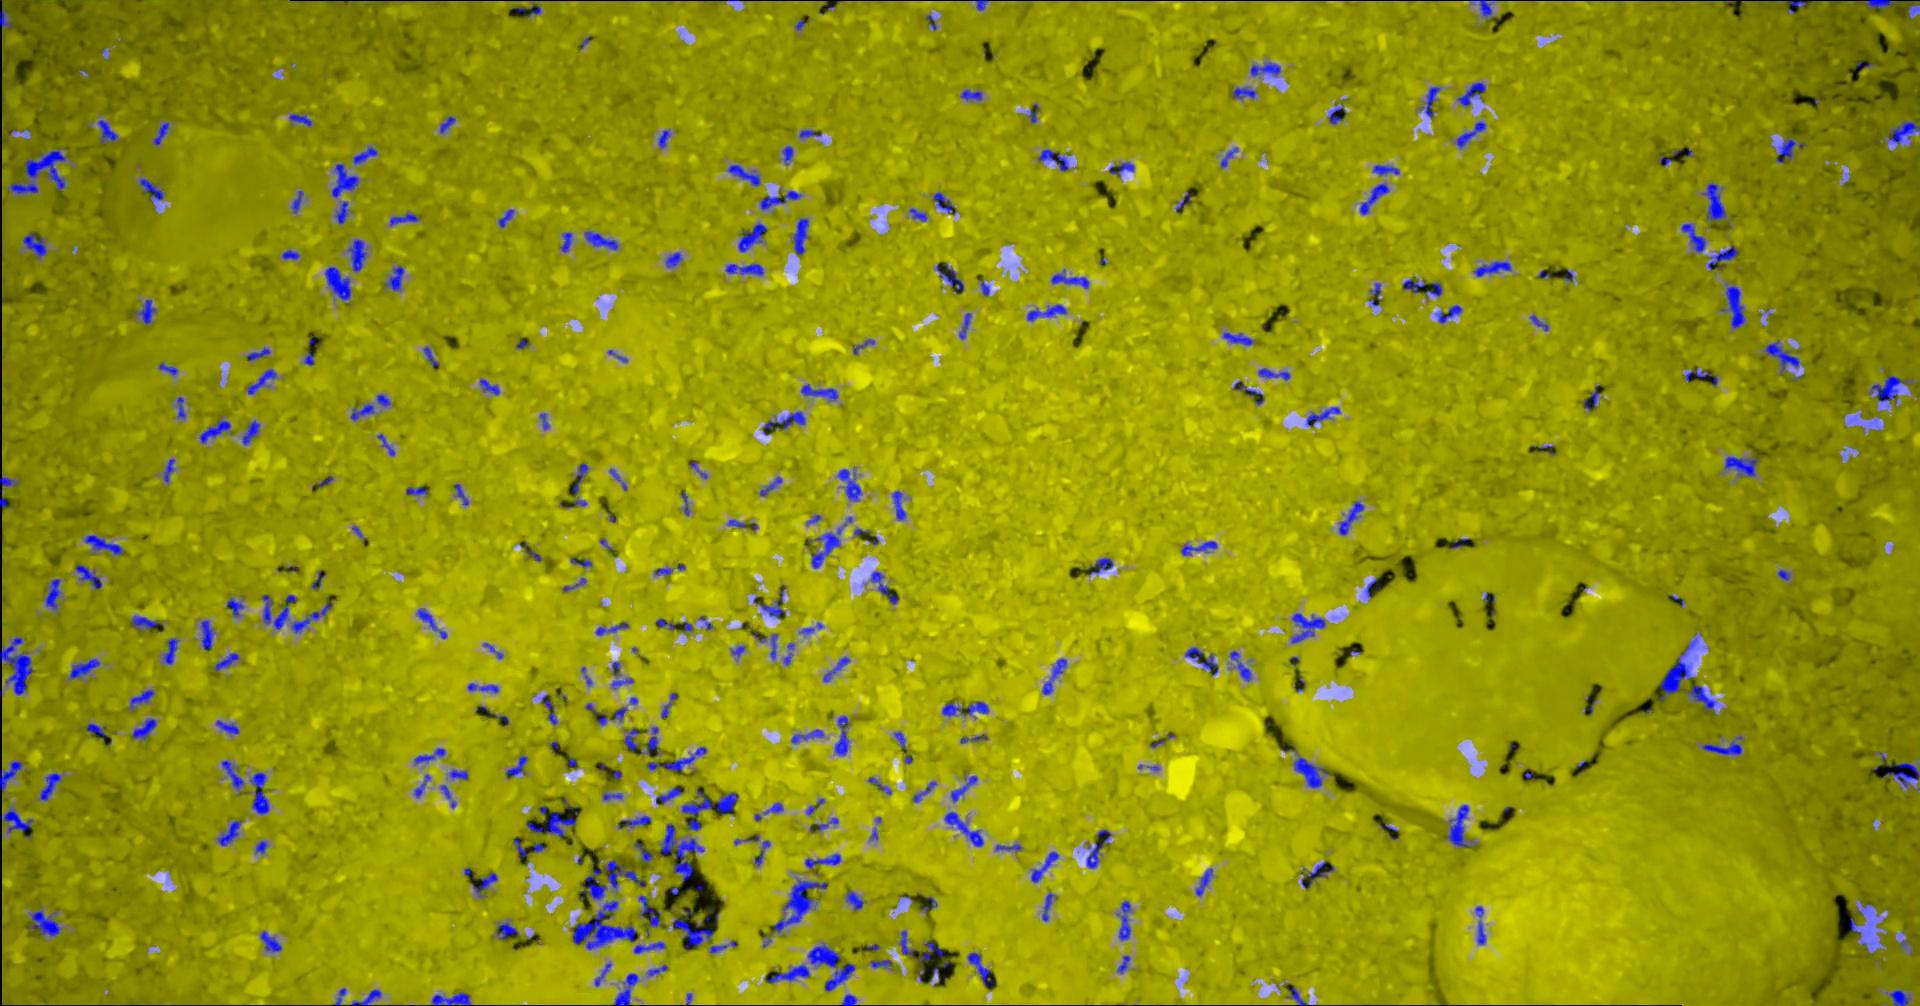ant: (775, 879, 829, 932), (580, 859, 646, 899), (1660, 633, 1699, 700), (10, 149, 67, 194), (660, 823, 705, 882), (683, 788, 739, 829), (809, 942, 856, 989), (813, 516, 855, 568), (1, 636, 34, 695), (674, 904, 714, 948), (648, 746, 709, 771), (946, 810, 985, 846), (528, 810, 577, 837), (264, 594, 298, 629), (292, 603, 331, 633), (1766, 339, 1802, 371), (1872, 375, 1911, 403), (1855, 0, 1920, 17), (1293, 612, 1327, 643), (1295, 757, 1330, 788), (1722, 285, 1746, 328), (1448, 804, 1472, 847), (764, 412, 808, 434), (1, 808, 34, 837), (333, 163, 361, 197), (1186, 647, 1220, 674), (1884, 761, 1920, 788), (418, 608, 450, 638), (466, 868, 499, 895), (1088, 829, 1112, 868), (326, 265, 353, 300), (1043, 658, 1068, 694), (1361, 183, 1390, 213), (969, 951, 996, 984), (1704, 182, 1727, 220), (1032, 851, 1060, 882), (872, 572, 899, 603), (761, 586, 787, 617), (1340, 500, 1365, 533), (29, 909, 62, 935), (1458, 121, 1487, 149), (739, 224, 768, 251), (937, 263, 965, 292), (1689, 683, 1718, 711), (1303, 861, 1335, 887), (761, 191, 803, 210), (251, 772, 270, 814), (839, 467, 863, 500), (248, 368, 278, 394), (86, 533, 124, 554), (1703, 735, 1743, 754), (768, 964, 811, 982), (201, 419, 232, 443), (615, 973, 639, 1005), (1, 760, 24, 793), (1777, 137, 1806, 163), (1234, 380, 1265, 404), (1039, 149, 1070, 171), (1051, 269, 1090, 288), (943, 701, 990, 716), (729, 164, 762, 185), (223, 760, 245, 793), (952, 775, 979, 801), (140, 177, 165, 205), (1709, 246, 1738, 271), (1029, 304, 1068, 321), (1890, 121, 1920, 144), (1230, 650, 1253, 681), (640, 895, 662, 927), (1307, 406, 1342, 426), (1683, 224, 1707, 251), (1726, 456, 1759, 476), (1458, 83, 1487, 105), (585, 230, 620, 249), (825, 655, 851, 681), (76, 564, 103, 588), (754, 633, 778, 659), (71, 658, 102, 678), (24, 232, 48, 258), (135, 298, 157, 325), (794, 217, 810, 254), (803, 384, 839, 400), (349, 239, 368, 271), (613, 661, 635, 688), (41, 772, 62, 800), (1686, 367, 1719, 385), (218, 821, 243, 845), (88, 723, 113, 746), (1, 474, 18, 508), (1423, 86, 1441, 118), (415, 747, 447, 765), (1476, 260, 1512, 276), (919, 940, 943, 963), (836, 715, 850, 754), (573, 464, 590, 494), (1182, 540, 1218, 555), (1289, 984, 1316, 1005), (46, 578, 62, 610), (587, 702, 610, 725), (133, 718, 157, 739), (507, 754, 528, 779), (913, 781, 938, 801), (1470, 0, 1497, 19), (130, 688, 156, 708), (133, 615, 164, 631), (1119, 901, 1131, 940), (433, 992, 472, 1005), (806, 854, 842, 868), (935, 192, 957, 213), (99, 119, 119, 144), (726, 263, 764, 276), (1437, 304, 1463, 323), (243, 419, 262, 445), (352, 989, 383, 1005), (1585, 384, 1603, 410), (262, 930, 283, 951), (164, 636, 180, 664), (792, 729, 825, 743), (1197, 868, 1214, 895), (354, 145, 378, 164), (386, 265, 405, 290), (216, 652, 241, 669), (543, 695, 559, 724), (1087, 558, 1114, 574), (657, 786, 683, 803), (761, 476, 783, 495), (352, 403, 376, 420), (869, 776, 893, 794), (596, 962, 613, 986), (1252, 62, 1283, 76), (1224, 332, 1255, 345), (201, 620, 215, 650), (1258, 367, 1291, 380), (597, 622, 630, 635), (663, 692, 679, 718), (618, 815, 651, 828), (893, 490, 907, 520), (1043, 892, 1057, 921), (154, 122, 171, 145), (1110, 161, 1137, 177), (498, 921, 521, 939), (625, 727, 641, 751), (391, 212, 422, 225), (756, 840, 771, 865), (1477, 906, 1487, 944), (900, 930, 916, 955), (378, 433, 396, 455), (636, 841, 654, 862), (1785, 0, 1818, 11), (217, 719, 240, 735), (415, 774, 432, 796), (513, 4, 542, 17), (635, 941, 667, 953), (1404, 276, 1426, 292), (855, 338, 876, 354), (648, 727, 660, 754), (1222, 147, 1239, 166), (960, 312, 973, 339), (248, 345, 272, 359), (1330, 104, 1346, 124), (481, 379, 502, 395), (229, 597, 245, 617), (848, 889, 865, 909), (1891, 989, 1912, 1005), (1233, 86, 1258, 99), (469, 682, 500, 692), (337, 201, 350, 224), (456, 483, 470, 506), (564, 577, 587, 591), (1177, 191, 1192, 211), (424, 345, 439, 366), (312, 569, 328, 589), (1374, 164, 1401, 175), (441, 116, 457, 133), (499, 210, 516, 227), (290, 113, 312, 126), (1370, 282, 1383, 305), (1531, 315, 1550, 330), (818, 817, 841, 829), (711, 940, 737, 951), (293, 191, 305, 213), (165, 459, 177, 481), (764, 801, 785, 814), (516, 837, 528, 857), (667, 251, 683, 267), (961, 89, 983, 100), (803, 622, 824, 634), (1, 8, 13, 28), (561, 231, 573, 251), (649, 964, 669, 976), (910, 208, 928, 221), (1119, 955, 1131, 973), (785, 643, 795, 664), (1030, 103, 1041, 122), (659, 130, 670, 149), (783, 145, 795, 164), (160, 362, 179, 373), (895, 730, 907, 749), (1427, 282, 1443, 296), (378, 392, 392, 406), (657, 619, 676, 629), (963, 735, 988, 743), (178, 396, 187, 418), (408, 486, 429, 495), (571, 558, 593, 567), (973, 0, 990, 10), (283, 249, 301, 259), (451, 768, 469, 779), (615, 708, 629, 720), (257, 840, 269, 854), (997, 843, 1023, 850), (872, 959, 894, 967), (657, 567, 674, 575), (801, 130, 822, 137), (843, 995, 858, 1005), (1779, 569, 1792, 580), (604, 793, 623, 800)
